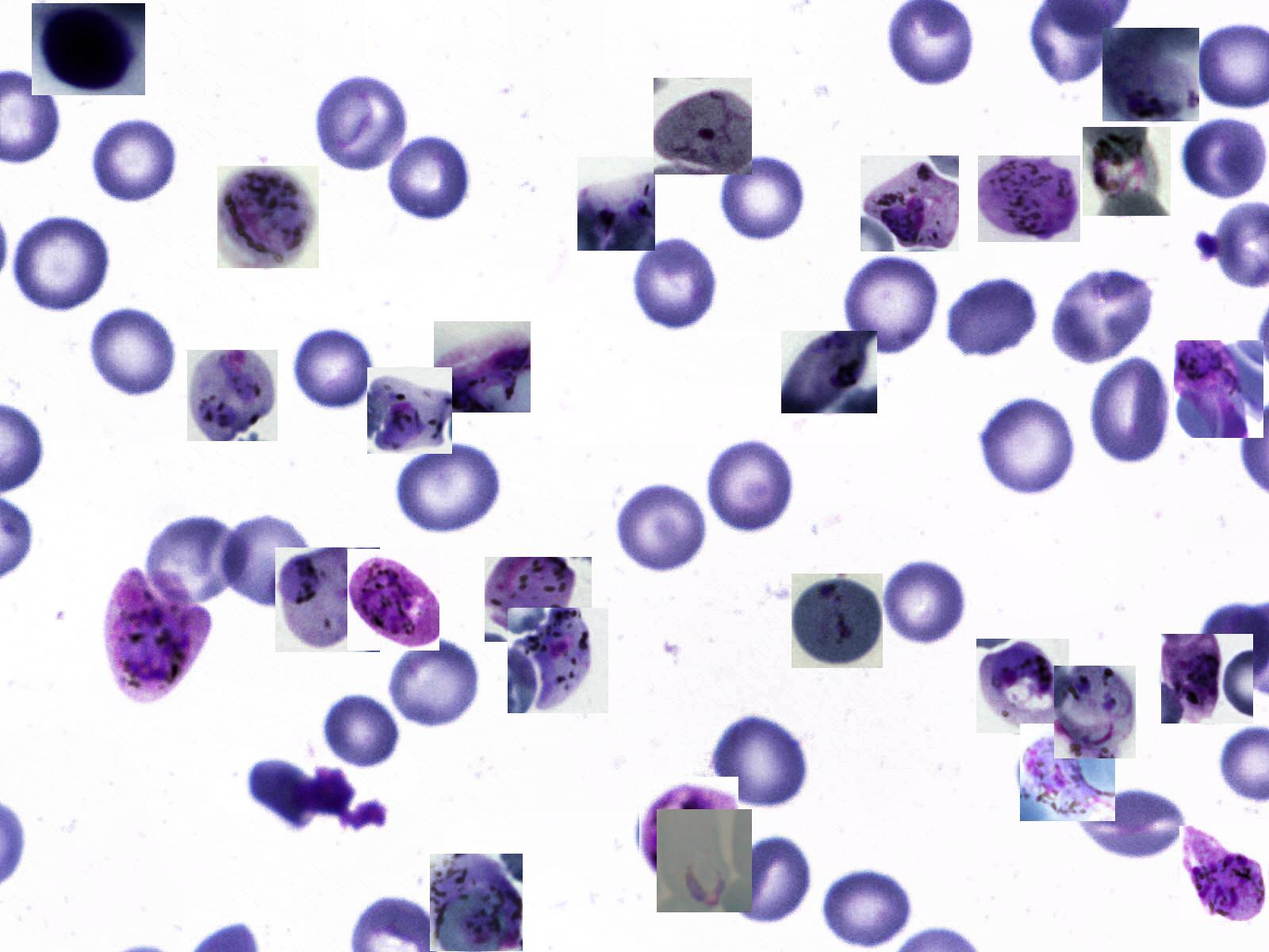Infected: (105, 567, 215, 705), (276, 547, 381, 652), (639, 777, 738, 885), (508, 608, 608, 713), (217, 166, 319, 268), (32, 4, 145, 95), (657, 809, 752, 912), (654, 78, 753, 175), (861, 155, 959, 251), (347, 549, 439, 651), (1020, 724, 1115, 821), (485, 557, 592, 642), (1102, 28, 1199, 121), (430, 854, 523, 951), (978, 155, 1080, 242), (434, 322, 531, 413), (976, 639, 1069, 733), (1174, 340, 1263, 438), (792, 574, 883, 668), (1179, 826, 1268, 921), (187, 350, 278, 441), (1161, 634, 1253, 724), (781, 331, 877, 413), (1083, 127, 1171, 216), (1054, 666, 1136, 758), (367, 367, 452, 454), (577, 157, 655, 251)
Uninfected: (10, 213, 117, 312), (708, 711, 811, 812), (145, 509, 250, 607), (843, 255, 943, 357), (397, 442, 503, 535), (1050, 271, 1156, 363), (976, 397, 1076, 494), (311, 76, 412, 171), (383, 635, 483, 730), (705, 435, 796, 534), (1091, 354, 1173, 463), (1073, 783, 1189, 860), (219, 512, 312, 607), (615, 480, 711, 569), (820, 859, 917, 947), (88, 305, 176, 397), (884, 0, 977, 87), (945, 275, 1041, 359), (880, 559, 971, 646), (718, 154, 806, 241), (90, 116, 181, 200), (632, 239, 717, 328), (732, 829, 812, 923), (1181, 111, 1265, 198), (386, 134, 468, 222), (296, 326, 372, 413), (325, 688, 399, 767)
